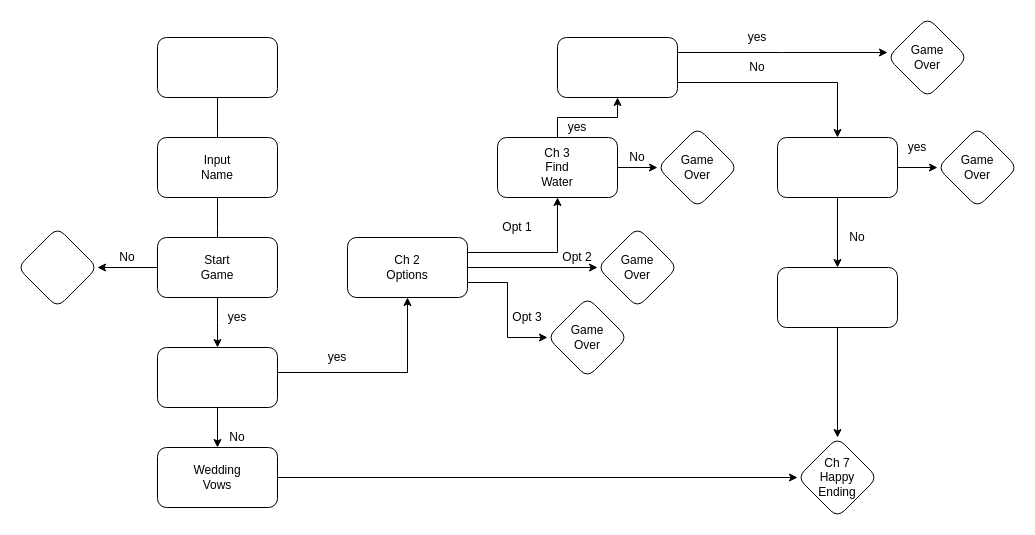
The diagram is 1035 pixels wide and 535 high, and some of its shapes have lost their labels. The shapes that lost their labels are listed below. From the top down, each one's centre as x and y in pixels, then its label:
At (x=217, y=67): "Welcome Graphic".
At (x=617, y=67): "Ch 4 Go for a nap".
At (x=837, y=167): "Ch 5 Follow snail".
At (x=57, y=267): "Exit".
At (x=837, y=297): "Ch 6 info".
At (x=217, y=377): "Ch 1 Help find flowers".
